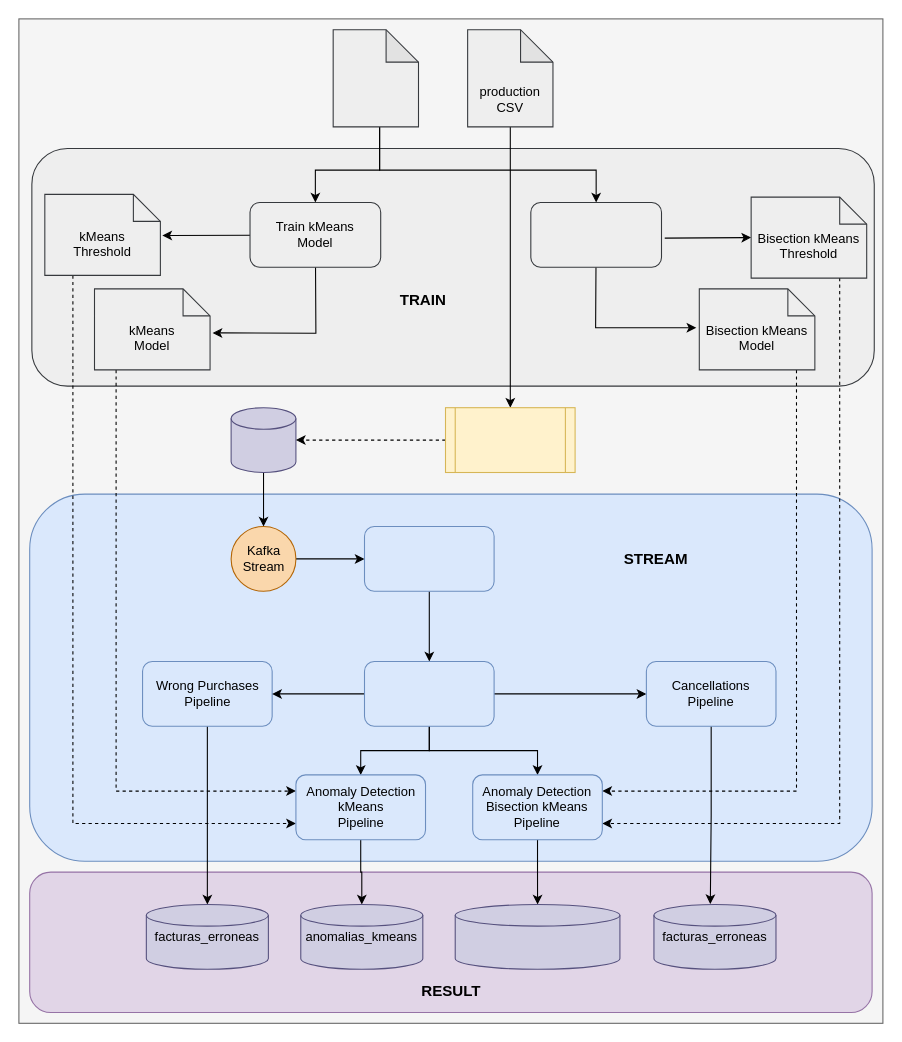
This 902x1042 diagram has some shape labels left out. Each missing label, with the box of its shape:
anomalias_bisect_kmeans: (454, 903, 620, 969)
Invoices Stream Pipeline: (363, 660, 494, 726)
Kafka: (230, 407, 296, 473)
Purchases Stream Pipeline: (363, 525, 494, 591)
Simulator: (444, 407, 575, 473)
Train Bisection kMeans Model: (530, 201, 662, 267)
training CSV: (332, 29, 418, 127)
